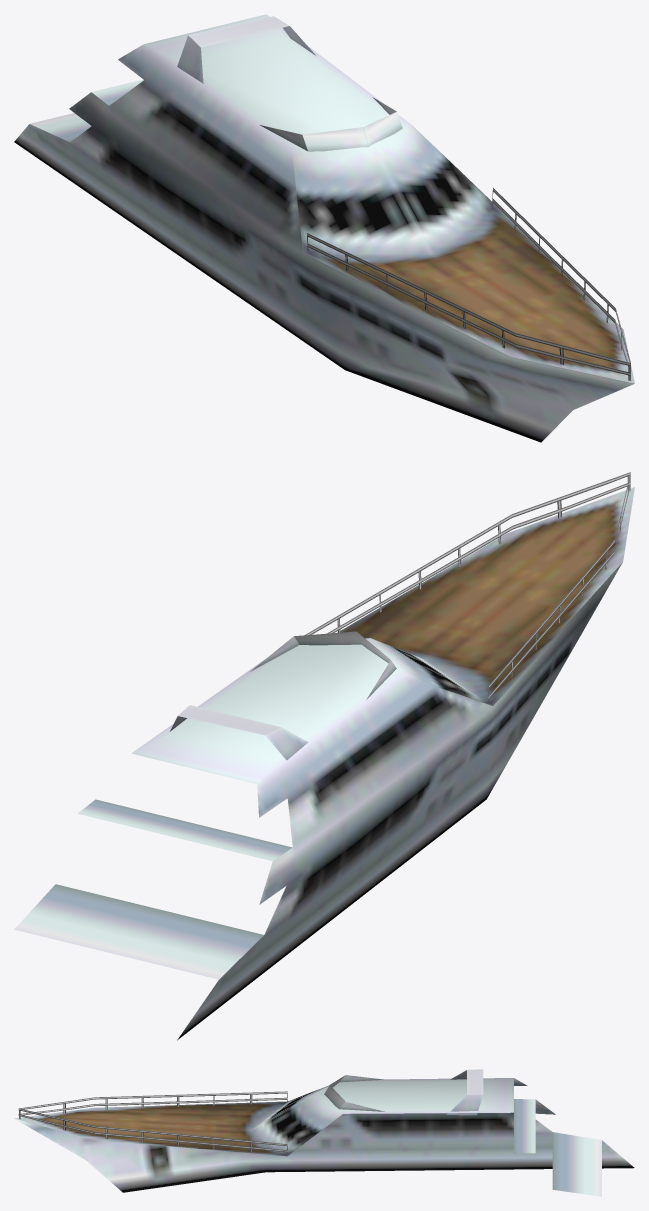
Rendered from youting01.FBX.
3 views of the same model, one above another, from view 1: azimuth 30°, elevation 25°; view 2: azimuth 150°, elevation 25°; view 3: azimuth 270°, elevation 25° (orthographic). The views are drawn at different scales.
Parts seen in each view (by area): view 1: youting01; view 2: youting01; view 3: youting01.
Boxes of the visible parts, bbox=[...] form: youting01: bbox=[14, 14, 634, 442]; youting01: bbox=[14, 472, 634, 1040]; youting01: bbox=[14, 1069, 634, 1196].
Bounding box in the file's own units: 7.44 × 6.69 × 33.82.
2 materials, 2 textured.
